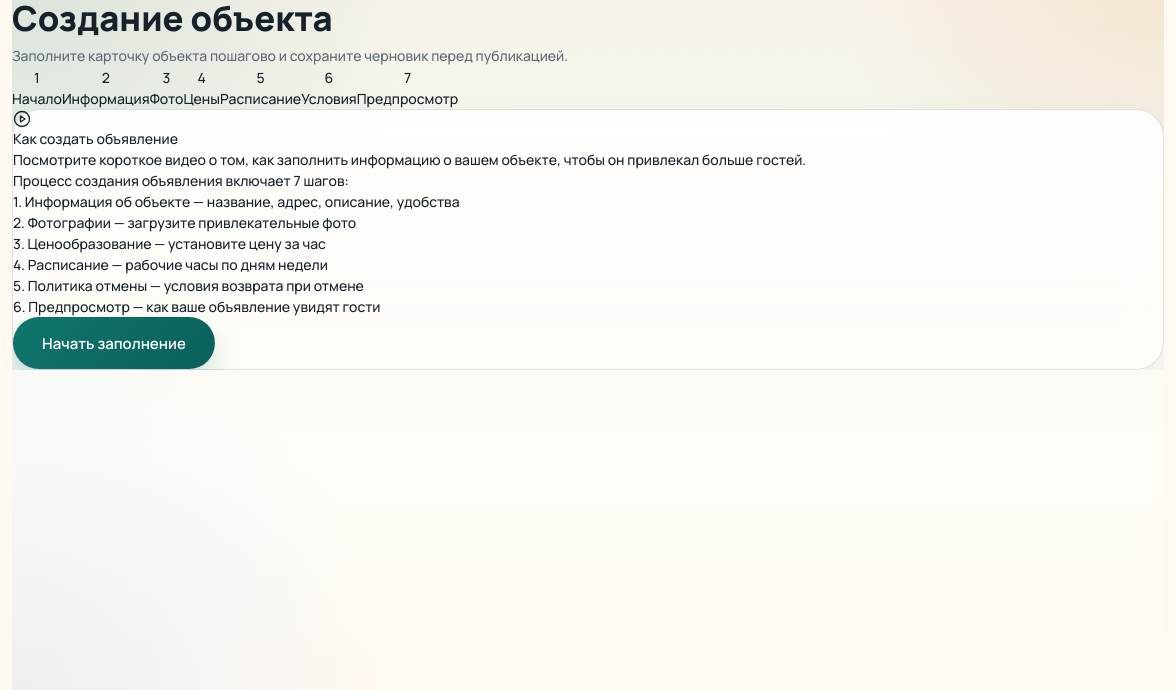
Test case: BathhouseForm › draft saving › shows draft save button after welcome step
Navigate past welcome
Click the button "Начать заполнение": [114, 343] box x1=13 y1=317 x2=215 y2=369
(page scrolled)
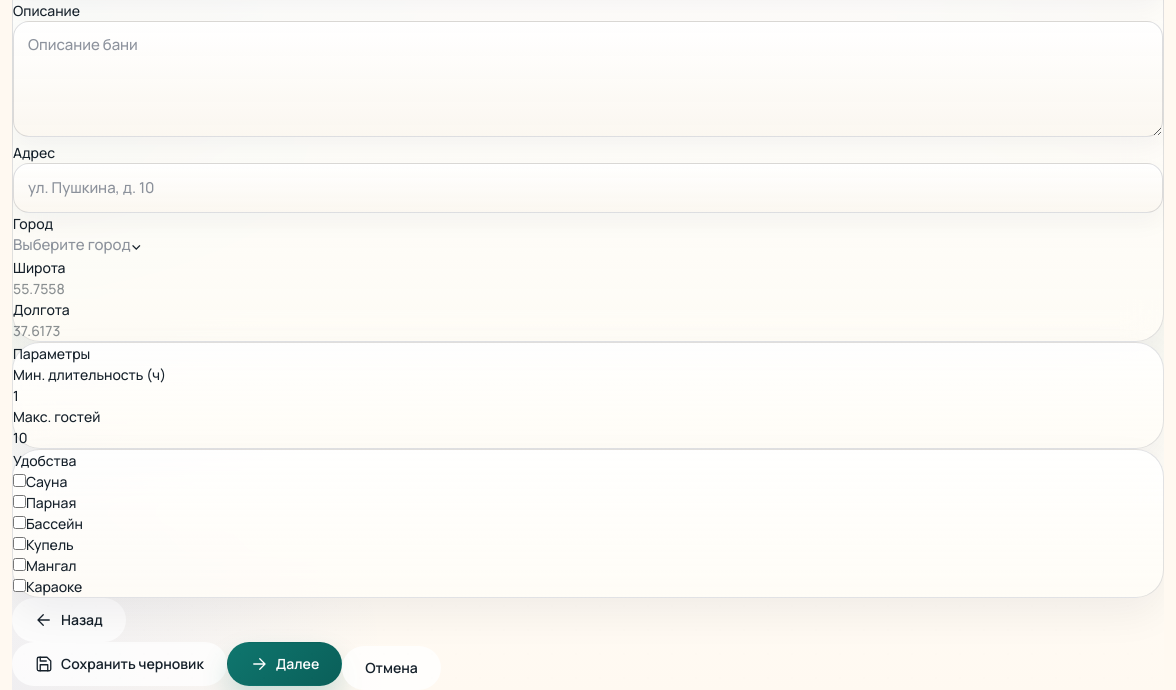
Result: the text "Далее" is shown at x1=276 y1=654 x2=319 y2=674
